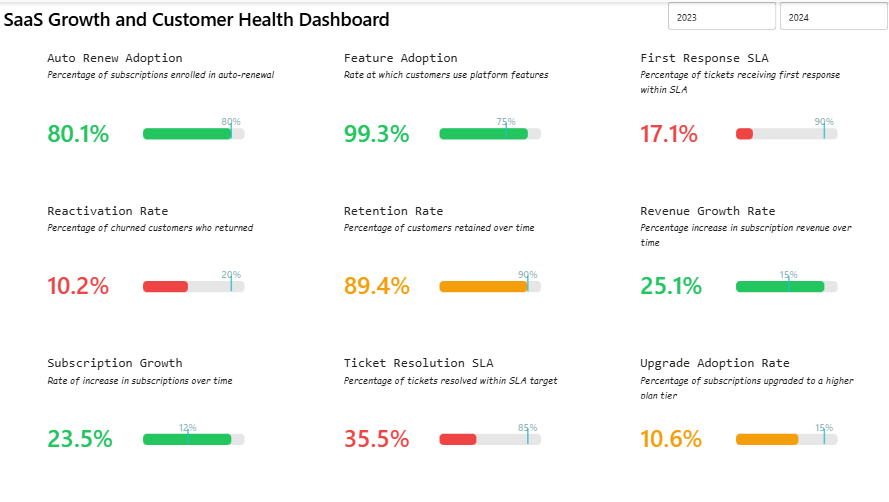

This screenshot's page, from the dashboard's own definition file:
{"tool":"powerbi","page":{"name":"Page 1","canvas":[1280,720],"ordinal":0},"visuals":[{"type":"cardVisual","fields":{"Rows":["KPI_Selector.KPI"],"Data":["_measures.KPI_value"]},"box":[0,20.2,1280.2,699.8],"z":0},{"type":"advancedSlicerVisual","fields":{"Values":["Date.Year"]},"box":[961.9,0,318.2,40.3],"z":1000},{"type":"textbox","box":[0,0,589,51.8],"z":2000}]}

Visuals, with their boxes in screenshot pixels (x1, y1, x2, y2), scaled from the page's 1280x720 canvas onto the 889x502 screenshot:
cardVisual - KPI_Selector.KPI x _measures.KPI_value: x1=0 y1=14 x2=888 y2=501
advancedSlicerVisual - Date.Year: x1=668 y1=0 x2=888 y2=28
textbox: x1=0 y1=0 x2=409 y2=36
